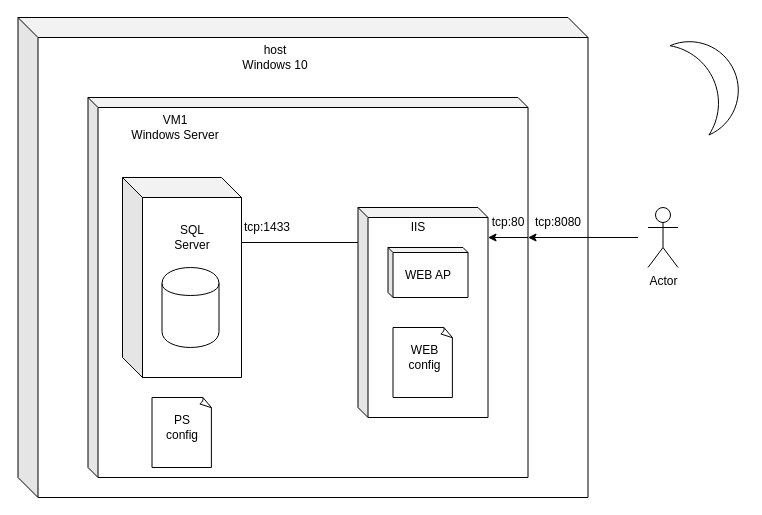
The diagram is 762 pixels wide and 515 high, and some of its shapes have lost their labels. The shapes that lost their labels are listed below. From the top down, each one's centre as x and y in pixels, then its label:
At point (707, 84): "moon".
At point (190, 307): "MS SQL DB".
